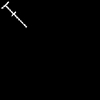double_crochet: (2, 2, 26, 26)
